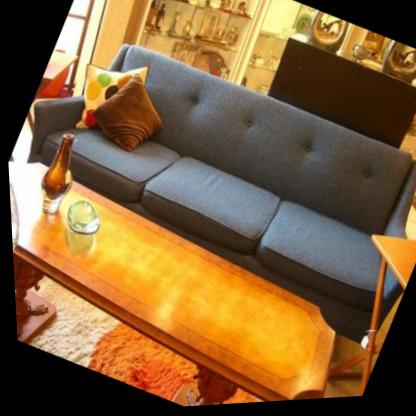Chair: (403, 108, 416, 228)
Sofa: (1, 4, 416, 351)
Table: (6, 139, 367, 416)
